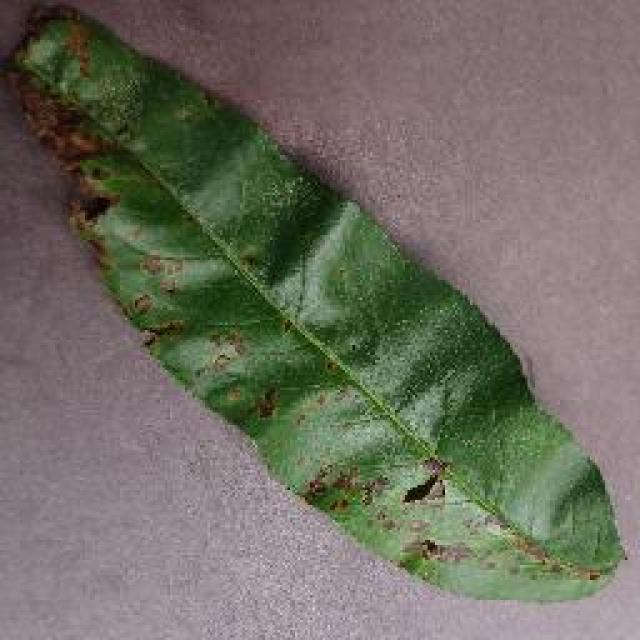Peach_Bacterial_Spot: (24, 37, 324, 358)
